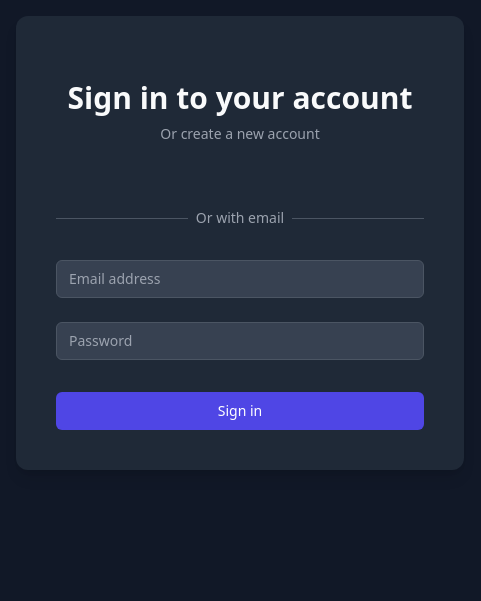
it: LoginPage › shows an error message on failed login
In the field with placeholder "Email address": (240, 279) top-left (56, 260), bottom-right (424, 298), type "test@example.com"
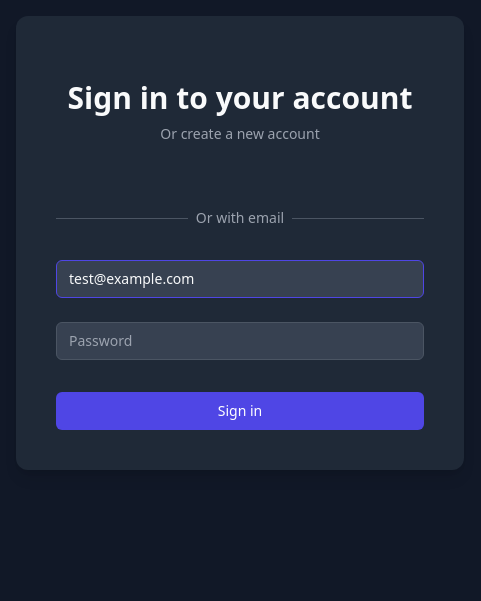
In the password field with placeholder "Password": (240, 341) top-left (56, 322), bottom-right (424, 360), type "wrongpassword"
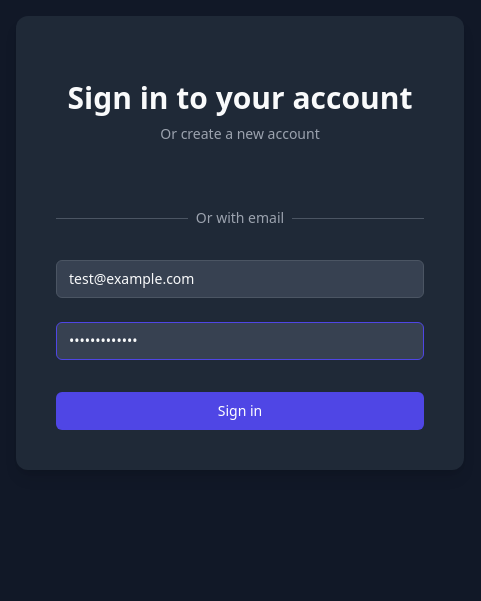
Click the button "Sign in": click(240, 411) top-left (56, 392), bottom-right (424, 430)
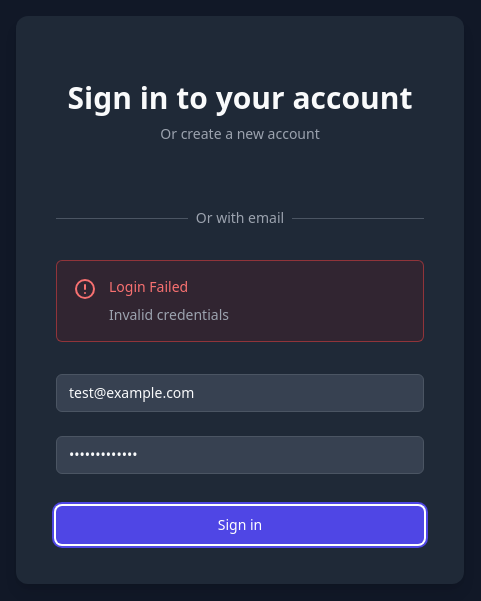
Expected: the message shows "Invalid credentials", top-left (109, 305), bottom-right (229, 324)
